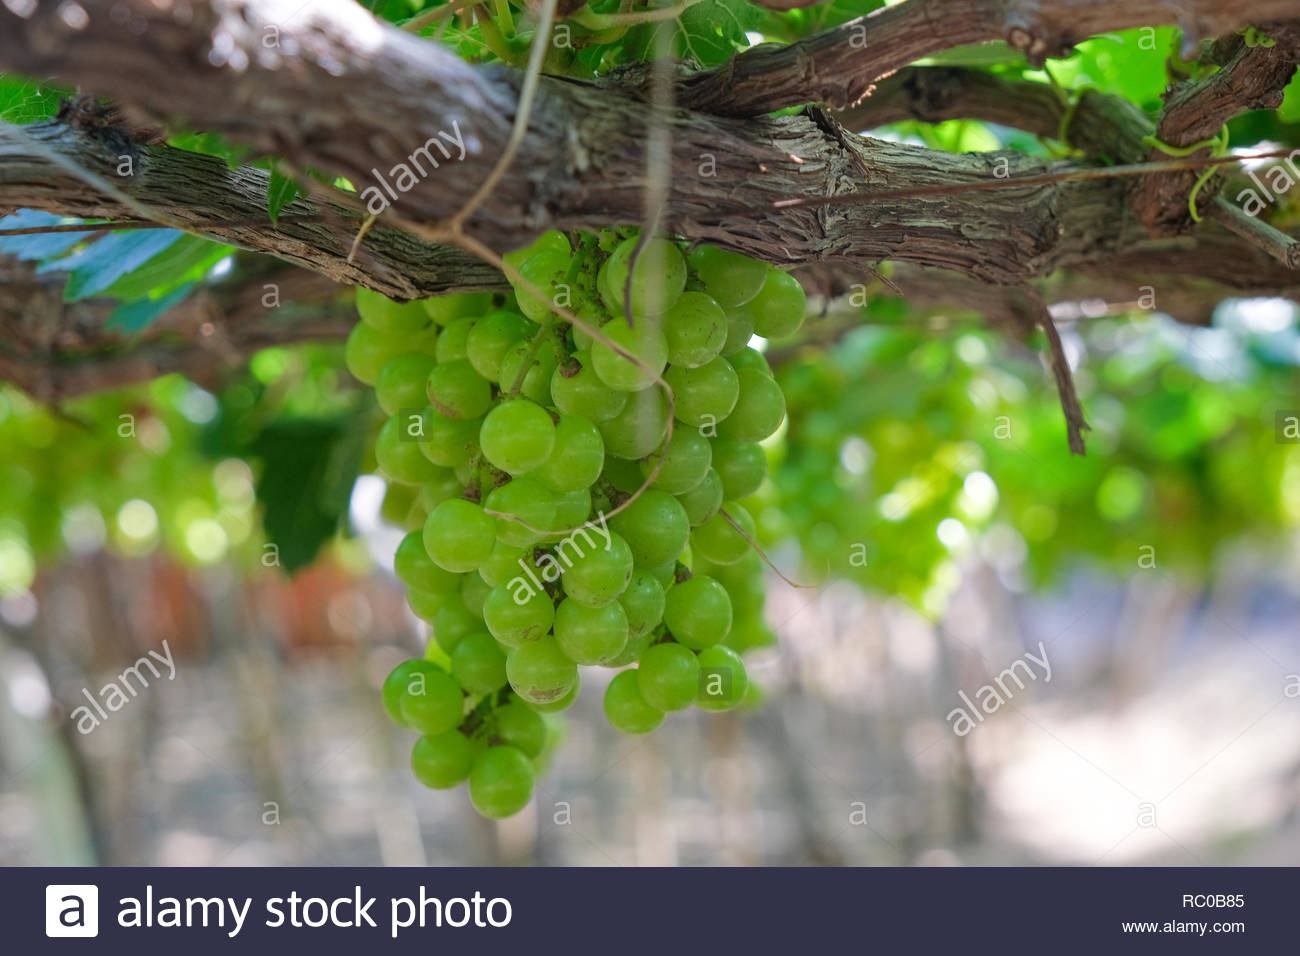grapes: (337, 244, 833, 811)
